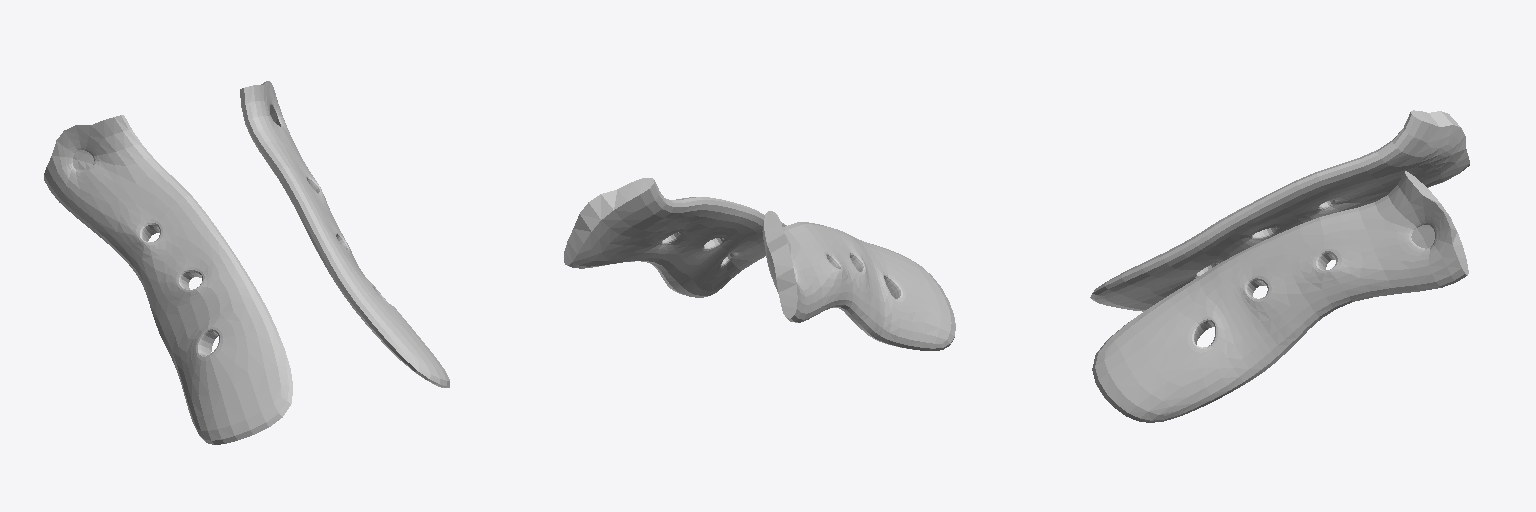
Rendered from lateral_cover.obj.
3 views of the same model, side by side, from view 1: azimuth 30°, elevation 25°; view 2: azimuth 150°, elevation 25°; view 3: azimuth 270°, elevation 25° (orthographic).
Visible parts, largest first — view 1: lateral_cover_Line.001, lateral_cover.001_Line.002; view 2: lateral_cover_Line.001, lateral_cover.001_Line.002; view 3: lateral_cover.001_Line.002, lateral_cover_Line.001.
Part boxes in pixels (left/top/right/bottom): lateral_cover_Line.001: left=44, top=115, right=337, bottom=444; lateral_cover.001_Line.002: left=240, top=81, right=449, bottom=387; lateral_cover_Line.001: left=762, top=211, right=955, bottom=350; lateral_cover.001_Line.002: left=564, top=178, right=786, bottom=297; lateral_cover.001_Line.002: left=1092, top=171, right=1468, bottom=422; lateral_cover_Line.001: left=1090, top=110, right=1469, bottom=324.
Bounding box in the file's own units: 1.47 × 1.29 × 2.01.